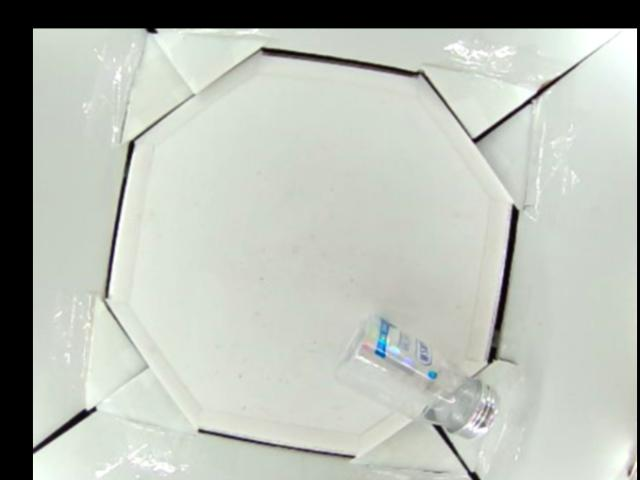Bottle: (333, 312, 501, 442)
